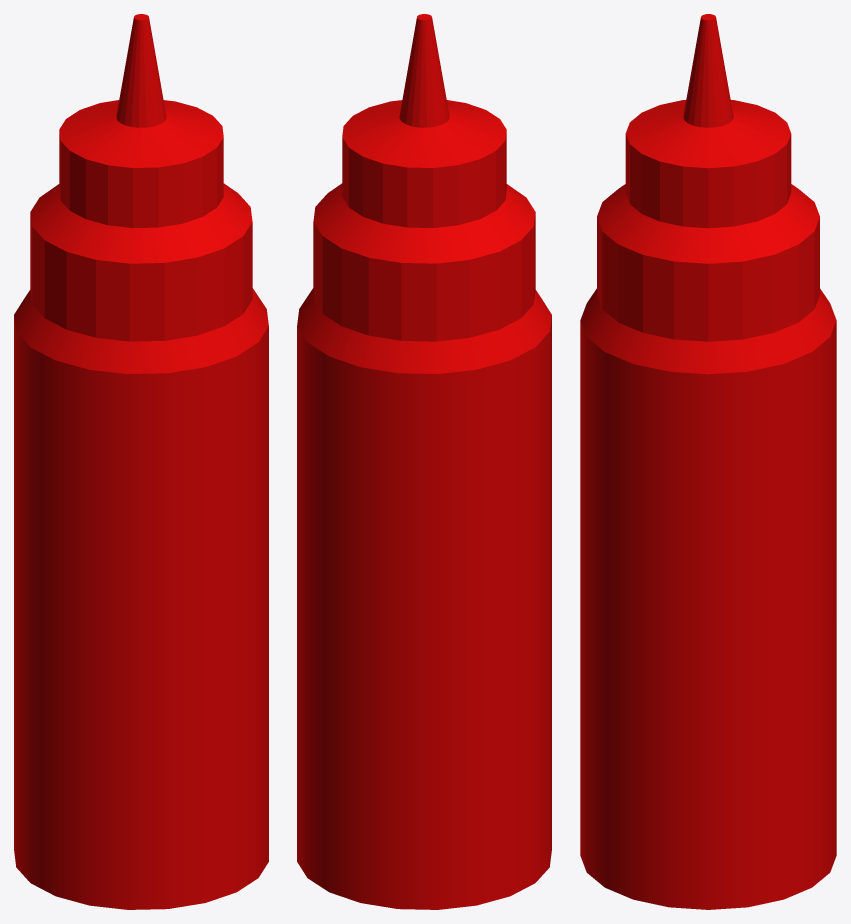
File: ketchupBottle.fbx
The picture shows the model from 3 angles, left to right: view 1: azimuth 30°, elevation 25°; view 2: azimuth 150°, elevation 25°; view 3: azimuth 270°, elevation 25°; orthographic projection.
Parts seen in each view (by area): view 1: ketchupBottle01; view 2: ketchupBottle01; view 3: ketchupBottle01.
Boxes of the visible parts, x1,y1,x2,y2 form: ketchupBottle01: (14,14,268,909); ketchupBottle01: (297,14,551,909); ketchupBottle01: (580,14,836,909).
Size of the model in its own units: 13 by 46.97 by 13.
